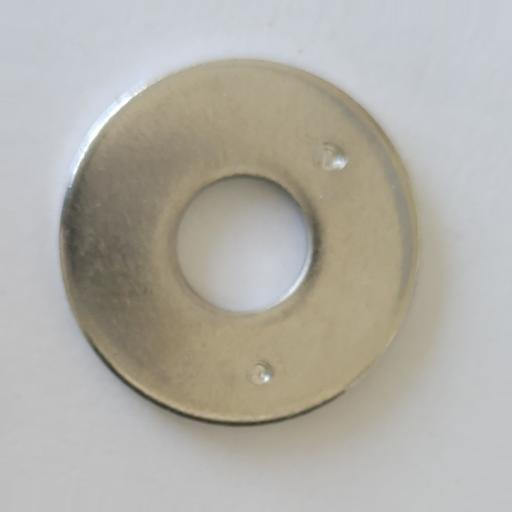circular_cavity: (319, 142, 346, 170), (250, 363, 274, 385)
